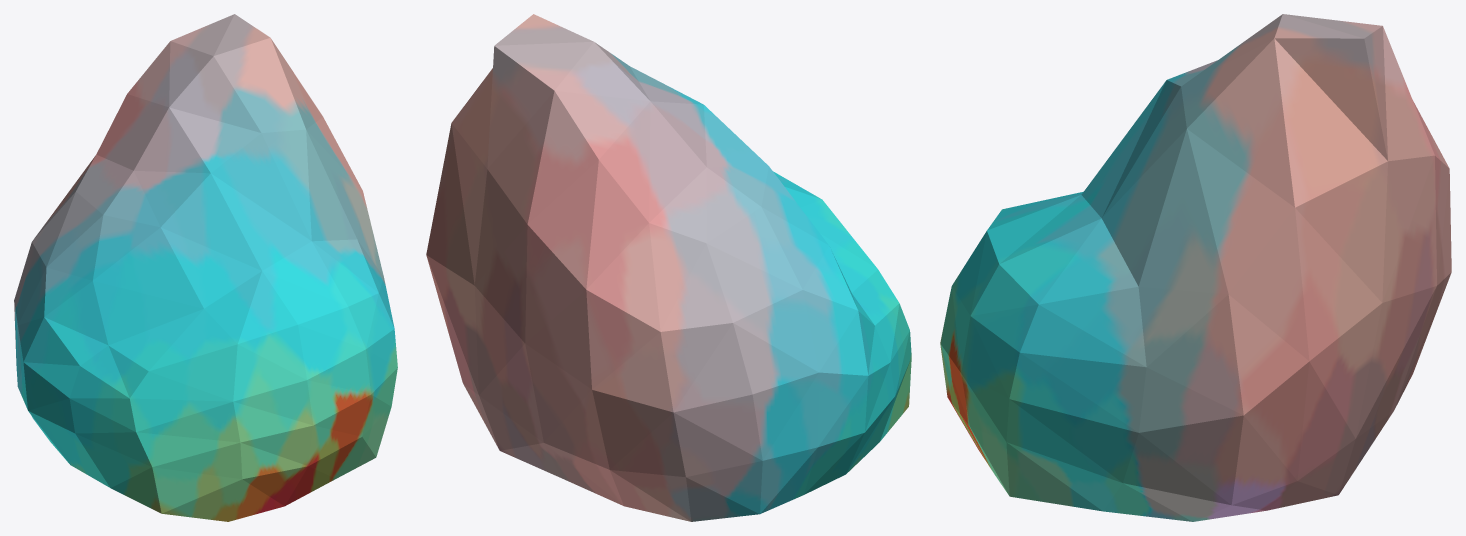
File: rockMediumRose.fbx
3 renders of one model, left to right at view 1: azimuth 30°, elevation 25°; view 2: azimuth 150°, elevation 25°; view 3: azimuth 270°, elevation 25°, orthographic. The views are drawn at different scales.
Visible parts, largest first — view 1: rockMediumRose; view 2: rockMediumRose; view 3: rockMediumRose.
Boxes of the visible parts, bbox=[...] form: rockMediumRose: bbox=[14, 14, 397, 521]; rockMediumRose: bbox=[426, 14, 911, 521]; rockMediumRose: bbox=[940, 14, 1451, 521].
Size of the model in its own units: 1.64 by 1.61 by 1.57.
